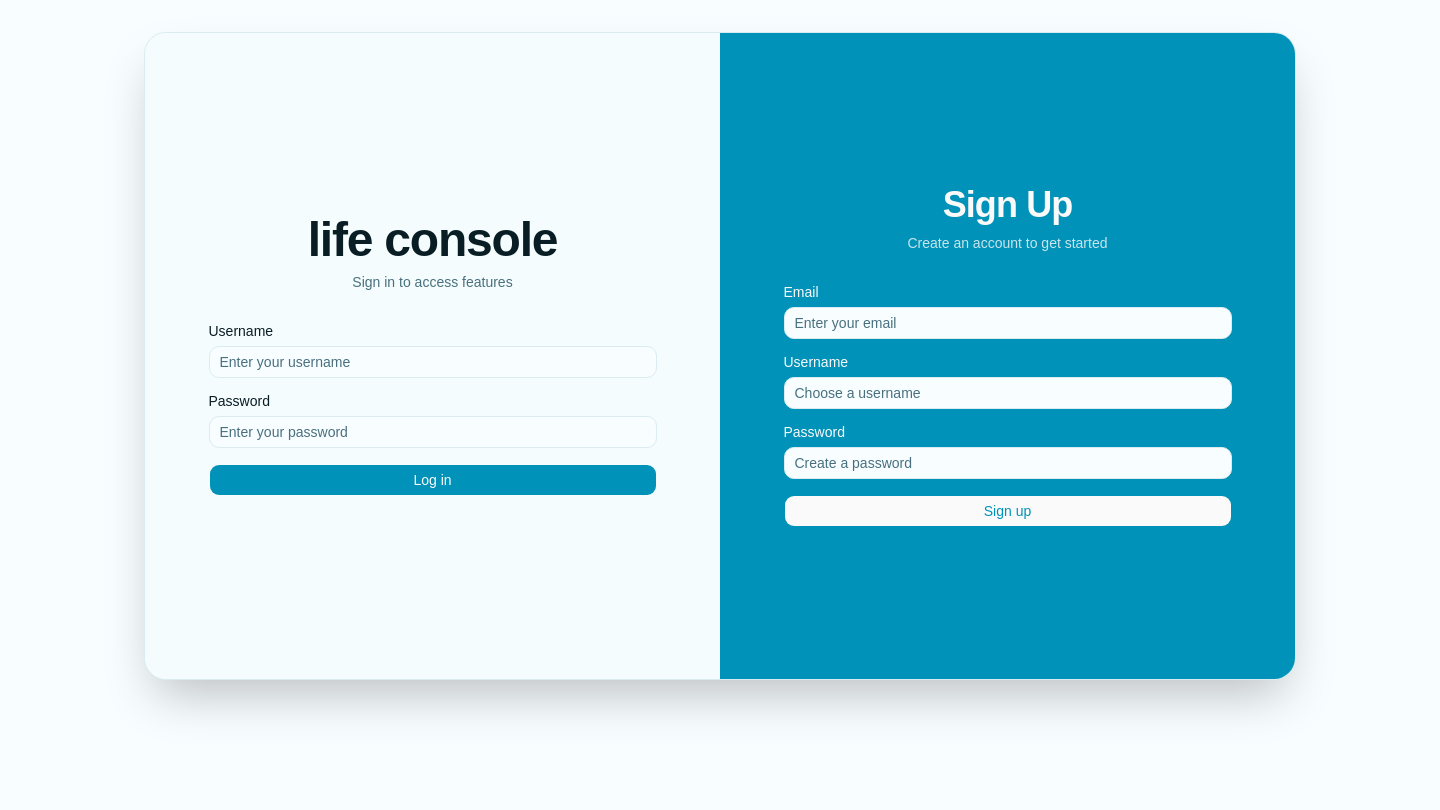
Test case: LoginPage › shows login errors
The image size is (1440, 810).
Type "ada" into the field labelled "Username" below "Sign in to access features" at (432,362), box [208,346,656,378]
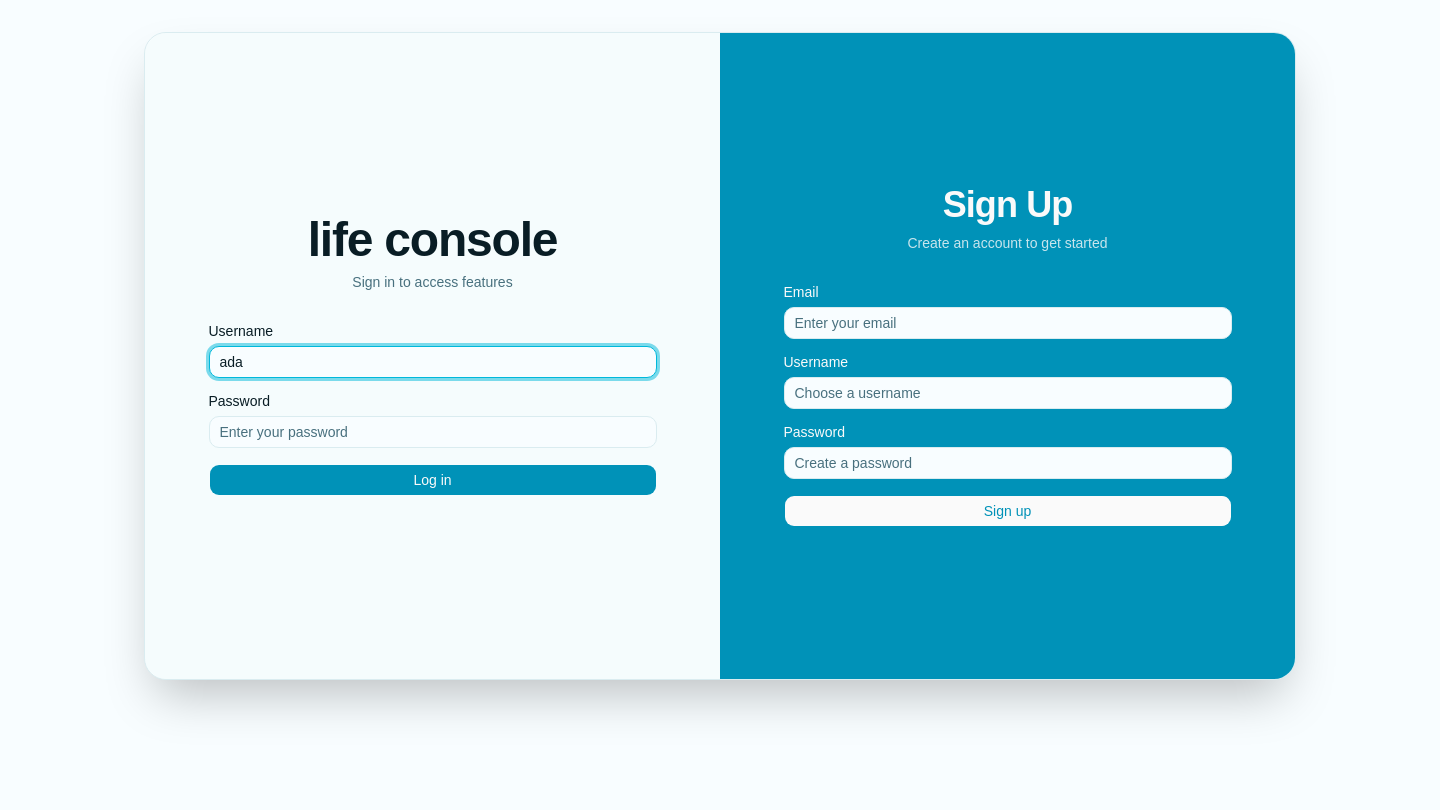
Type "wrongpassword" into the password field labelled "Password" below "Sign in to access features" at (432,432), box [208,416,656,448]
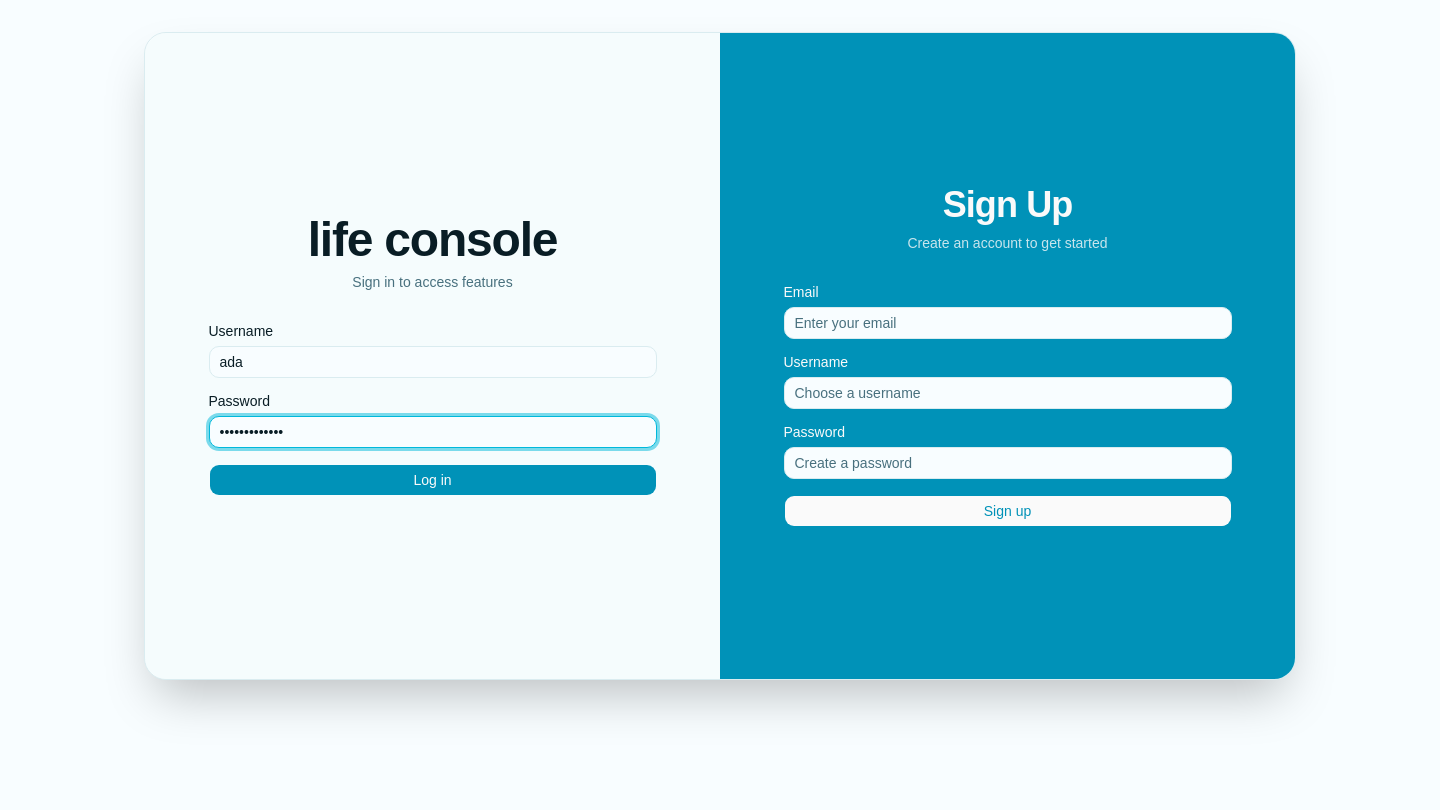
Click the button "Log in" at (432,480), box [208,464,656,496]
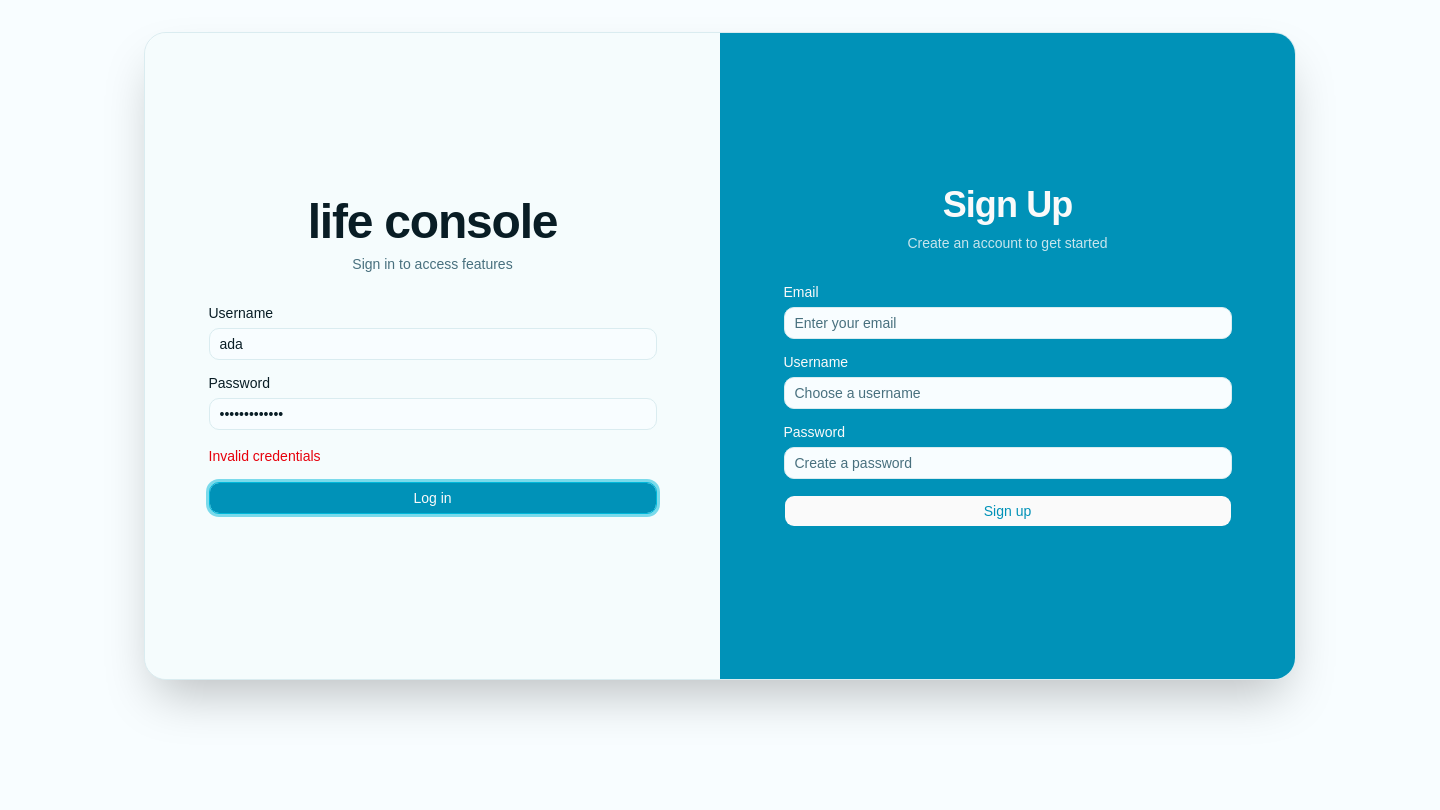
Expected: the text "Invalid credentials" is shown, [208,448,321,464]
